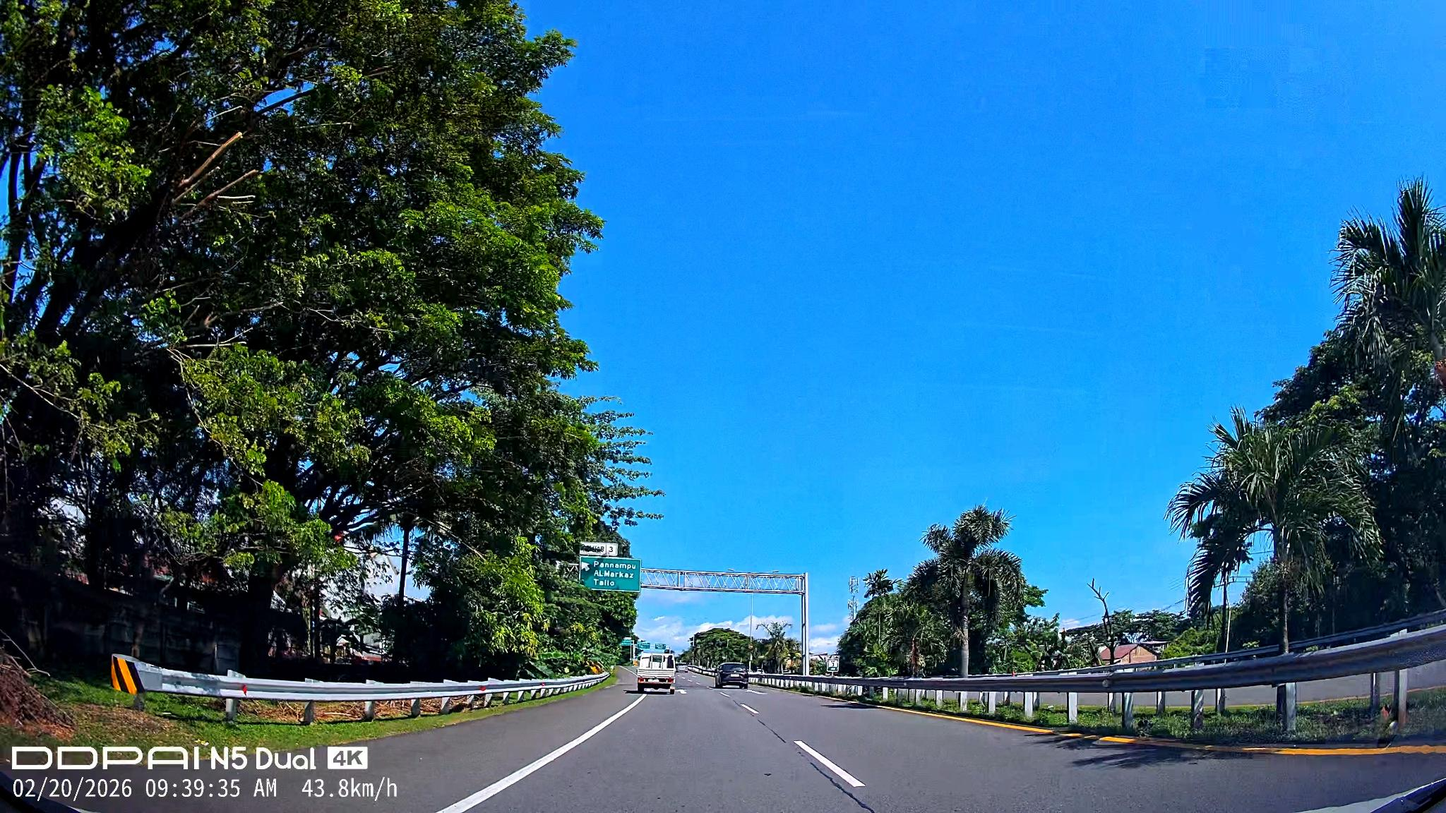rambu_teks: (579, 556, 642, 593)
